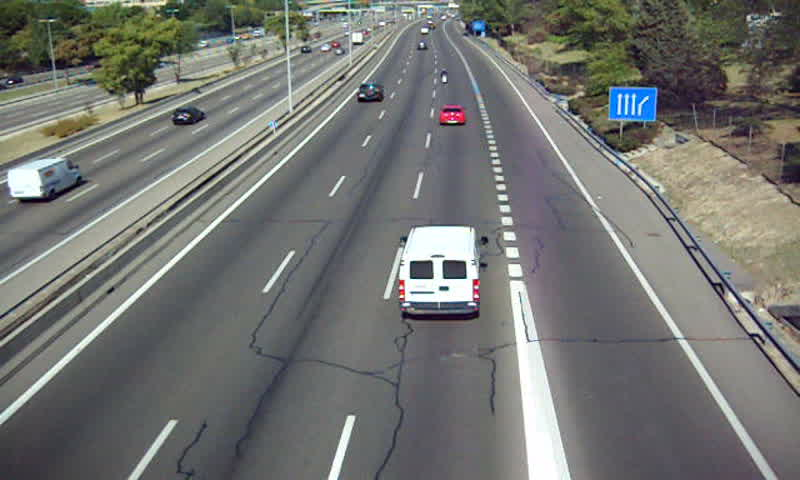car: (438, 106, 467, 127), (355, 82, 382, 101)
motorcycle: (439, 68, 450, 86)
van: (397, 226, 479, 315)
